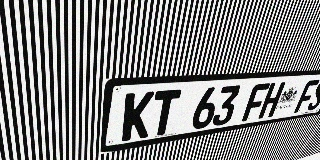3: (211, 85, 241, 127)
6: (190, 86, 221, 130)
F: (241, 83, 270, 122), (294, 80, 320, 113)
H: (258, 82, 286, 119)
K: (121, 91, 155, 141)
S: (306, 79, 320, 111)
T: (149, 89, 182, 137)
